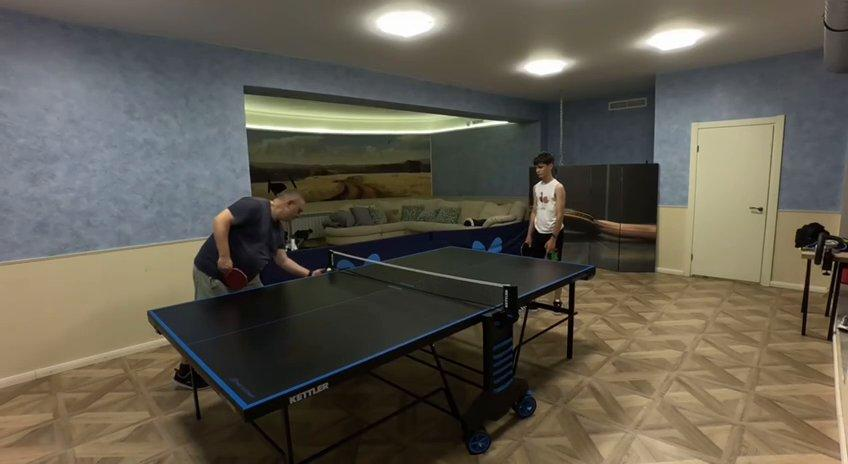Ball: (324, 266, 334, 272)
Net: (329, 250, 516, 318)
Player1: (521, 153, 565, 259)
Player2: (191, 189, 320, 299)
Table: (148, 246, 594, 405)
